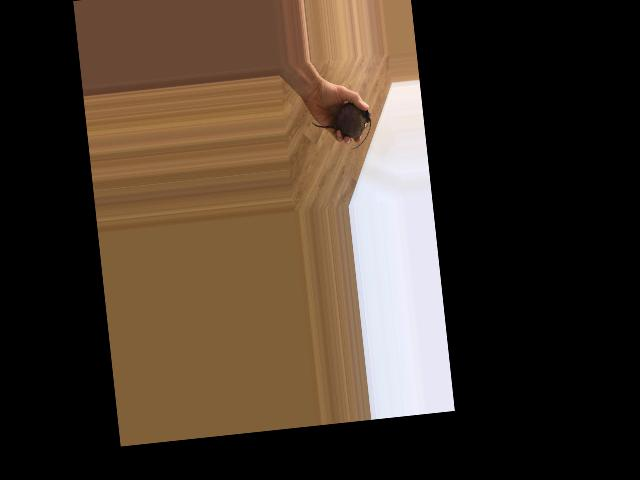beet: (310, 100, 374, 153)
